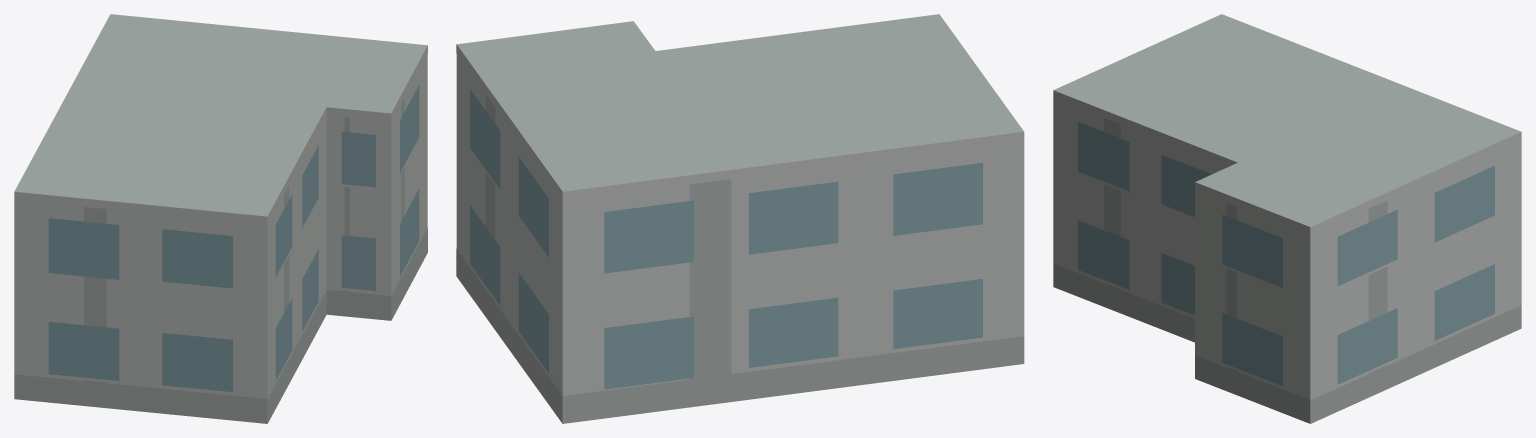
File: survey-upis-32775111.glb
3 views of the same model, side by side, from view 1: azimuth 30°, elevation 25°; view 2: azimuth 150°, elevation 25°; view 3: azimuth 270°, elevation 25° (orthographic). The views are drawn at different scales.
Visible parts, largest first — view 1: survey-upis-32775111.tmp; view 2: survey-upis-32775111.tmp; view 3: survey-upis-32775111.tmp.
Part boxes in pixels (x1,y1,x2,y2): survey-upis-32775111.tmp: (14,14,427,423); survey-upis-32775111.tmp: (456,14,1024,423); survey-upis-32775111.tmp: (1053,14,1521,423).
Size of the model in its own units: 14.18 by 6.1 by 13.17.
